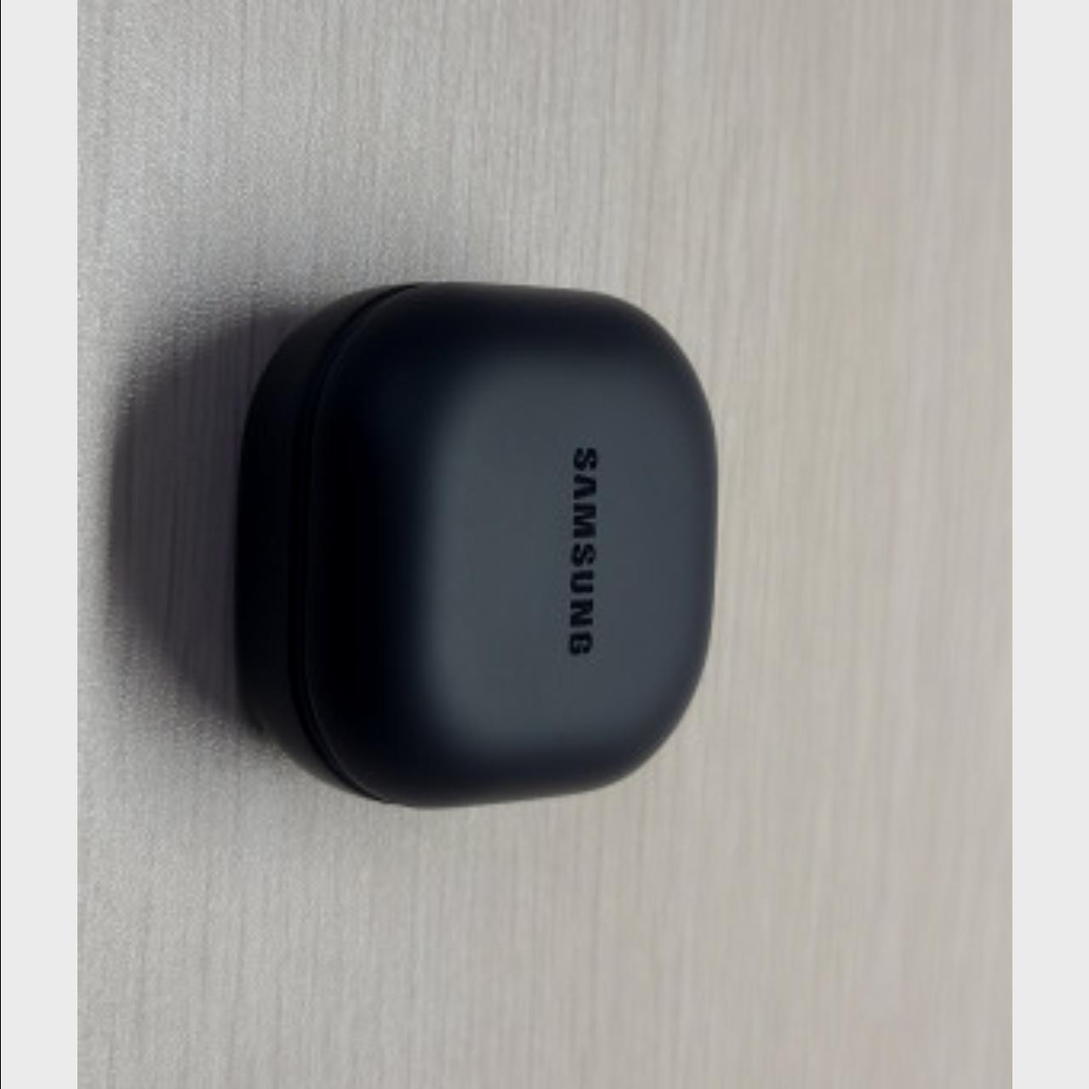Buds: (222, 281, 720, 816)
